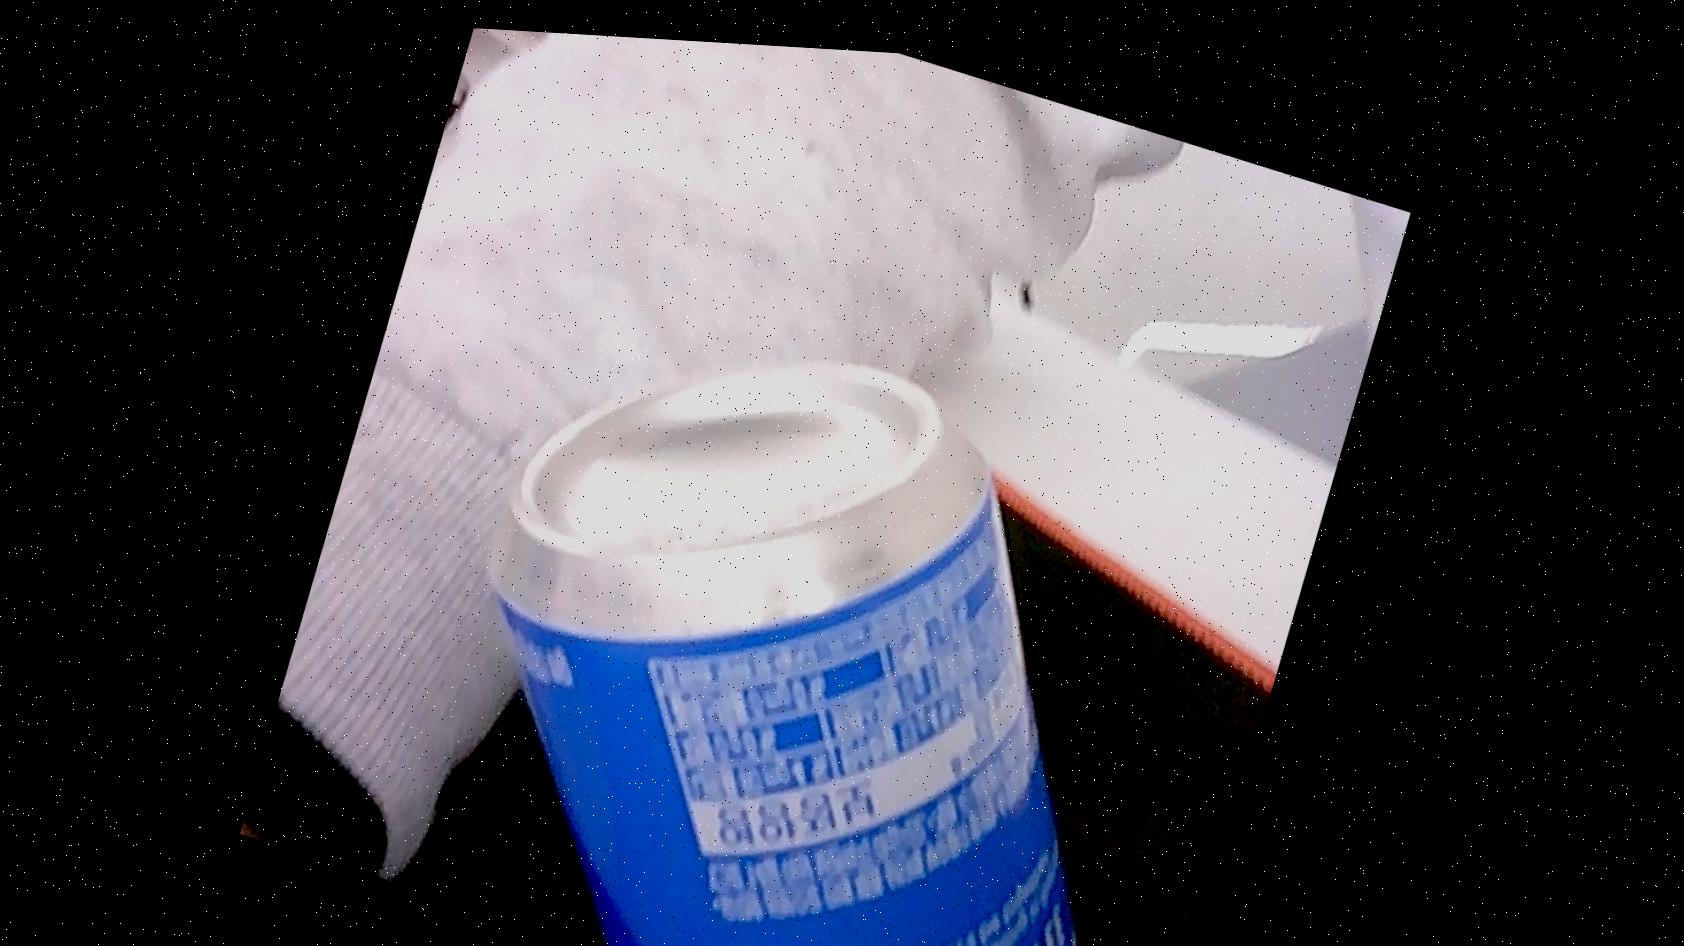letsbe: (394, 256, 1329, 946)
